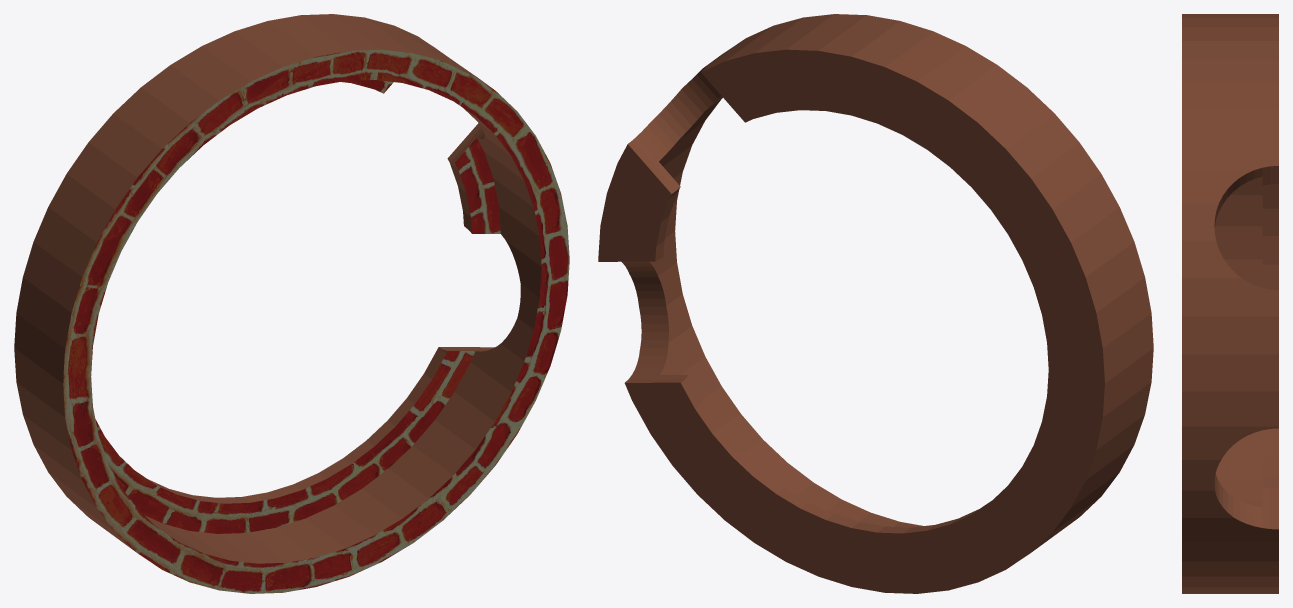
The model's file is pool_012.obj.
The picture shows the model from 3 angles, left to right: view 1: azimuth 30°, elevation 25°; view 2: azimuth 150°, elevation 25°; view 3: azimuth 270°, elevation 25°; orthographic projection.
Size of the model in its own units: 18 by 18 by 3.
